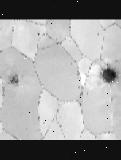good_void: (97, 62, 119, 86), (4, 71, 22, 90), (95, 33, 99, 36), (41, 121, 44, 125), (36, 32, 39, 36), (0, 50, 2, 54)
